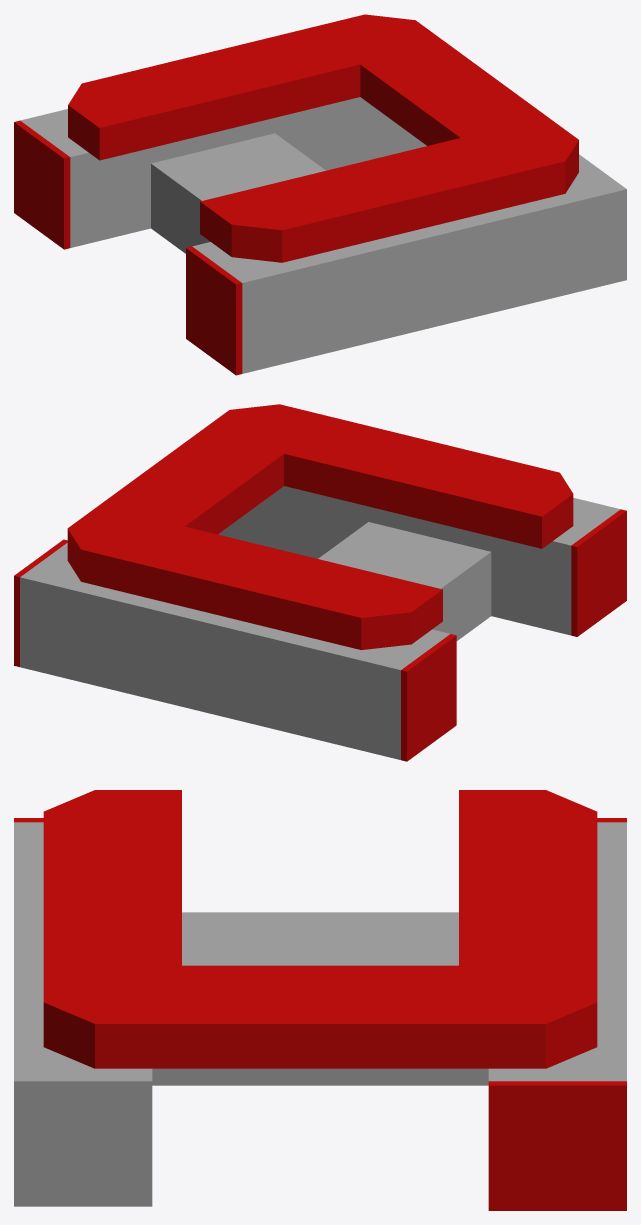
File: lower_frame.dae
3 views of the same model, one above another, from view 1: azimuth 30°, elevation 25°; view 2: azimuth 150°, elevation 25°; view 3: azimuth 270°, elevation 25° (orthographic). The views are drawn at different scales.
Visible parts, largest first — view 1: Komponente_8, Komponente_7 (×4), Komponente_3 (×2), Komponente_9; view 2: Komponente_8, Komponente_7 (×4), Komponente_3 (×3), Komponente_9; view 3: Komponente_8, Komponente_7 (×4), Komponente_9, Komponente_3.
Part boxes in pixels (x1,y1,x2,y2): Komponente_8: [68, 14, 578, 262]; Komponente_7 (×4): [20, 97, 626, 373]; Komponente_3 (×2): [14, 120, 242, 375]; Komponente_9: [151, 133, 325, 253]; Komponente_8: [67, 404, 573, 649]; Komponente_7 (×4): [20, 486, 620, 759]; Komponente_3 (×3): [14, 509, 626, 761]; Komponente_9: [318, 522, 491, 640]; Komponente_8: [43, 790, 597, 1068]; Komponente_7 (×4): [14, 822, 626, 1206]; Komponente_9: [152, 912, 488, 1085]; Komponente_3: [488, 1081, 626, 1210].
Size of the model in its own units: 2.52 by 2.44 by 0.748.
